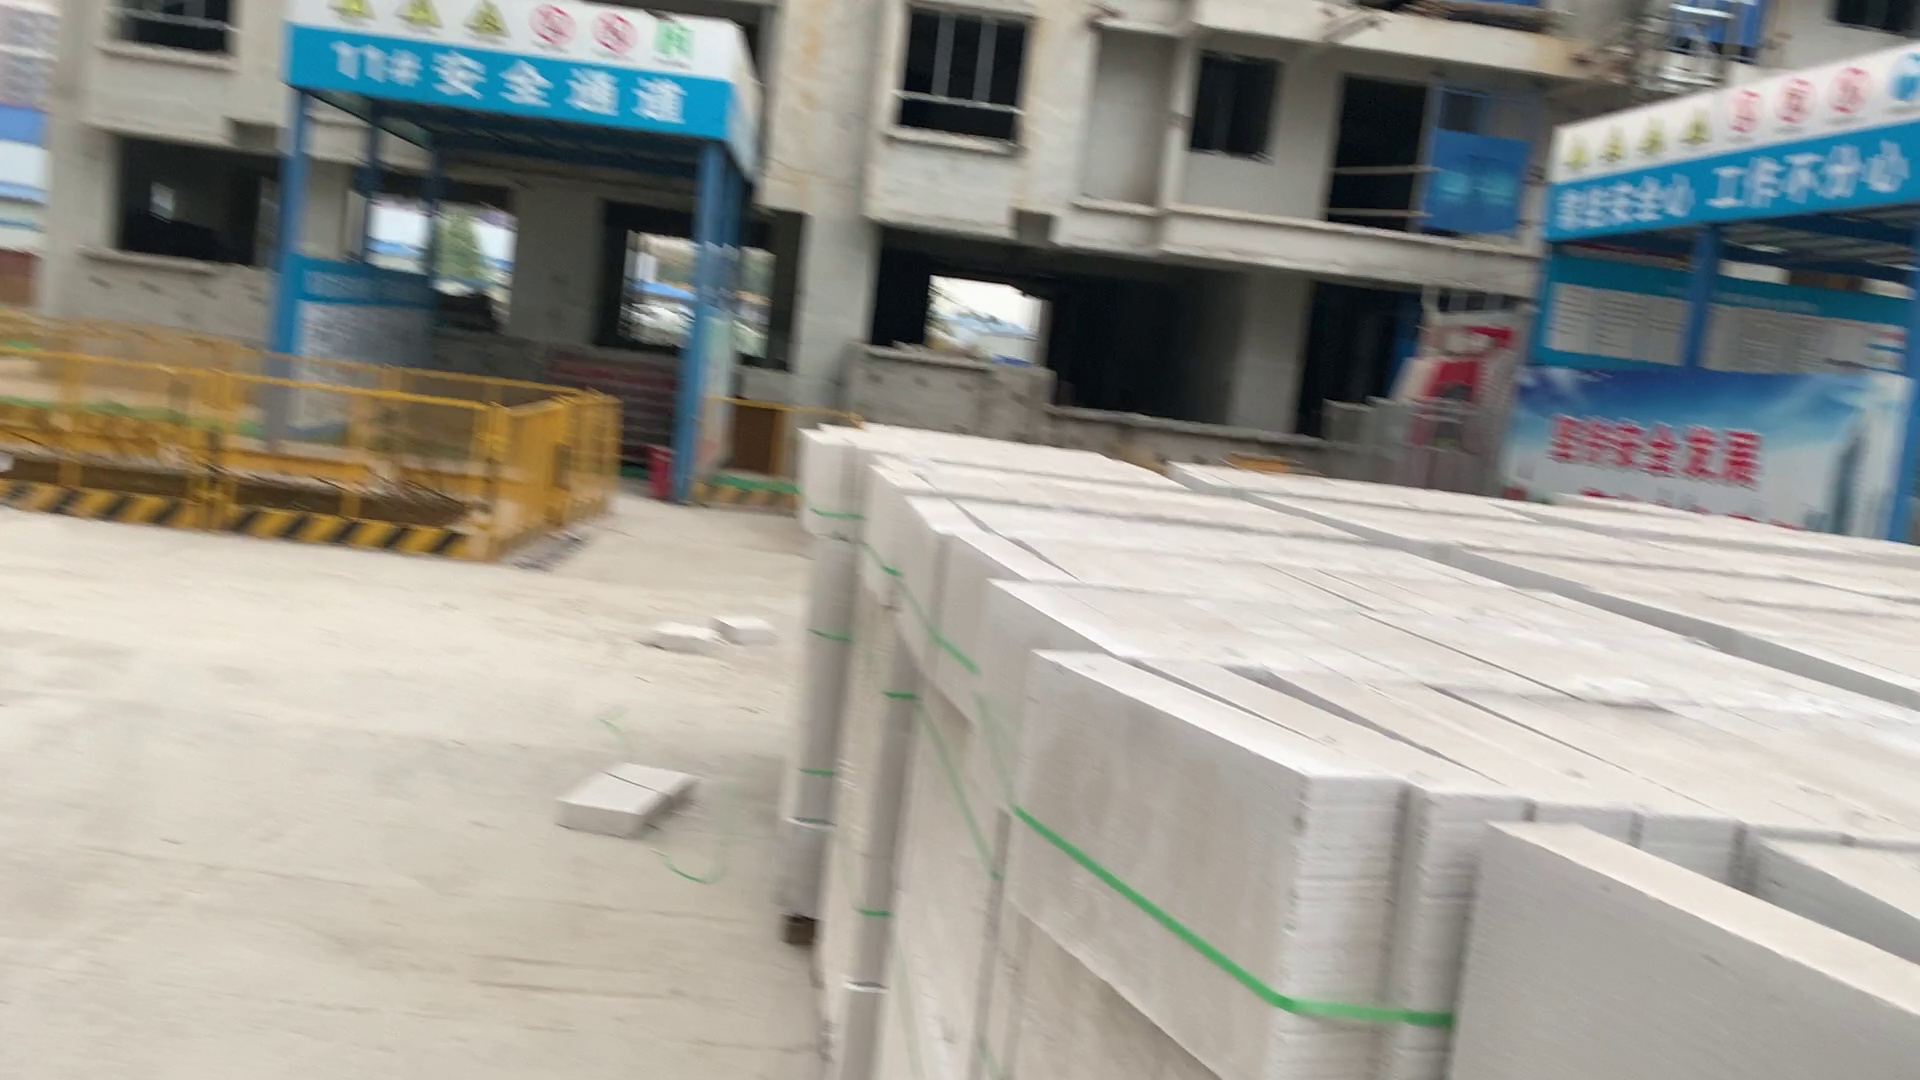brickwork: (1031, 646, 1917, 1080), (911, 493, 1505, 584), (989, 583, 1716, 651), (1261, 495, 1778, 572), (877, 458, 1357, 541), (1597, 588, 1920, 686), (1489, 550, 1915, 615), (953, 538, 1505, 587), (810, 414, 1183, 485), (1182, 460, 1531, 518)
